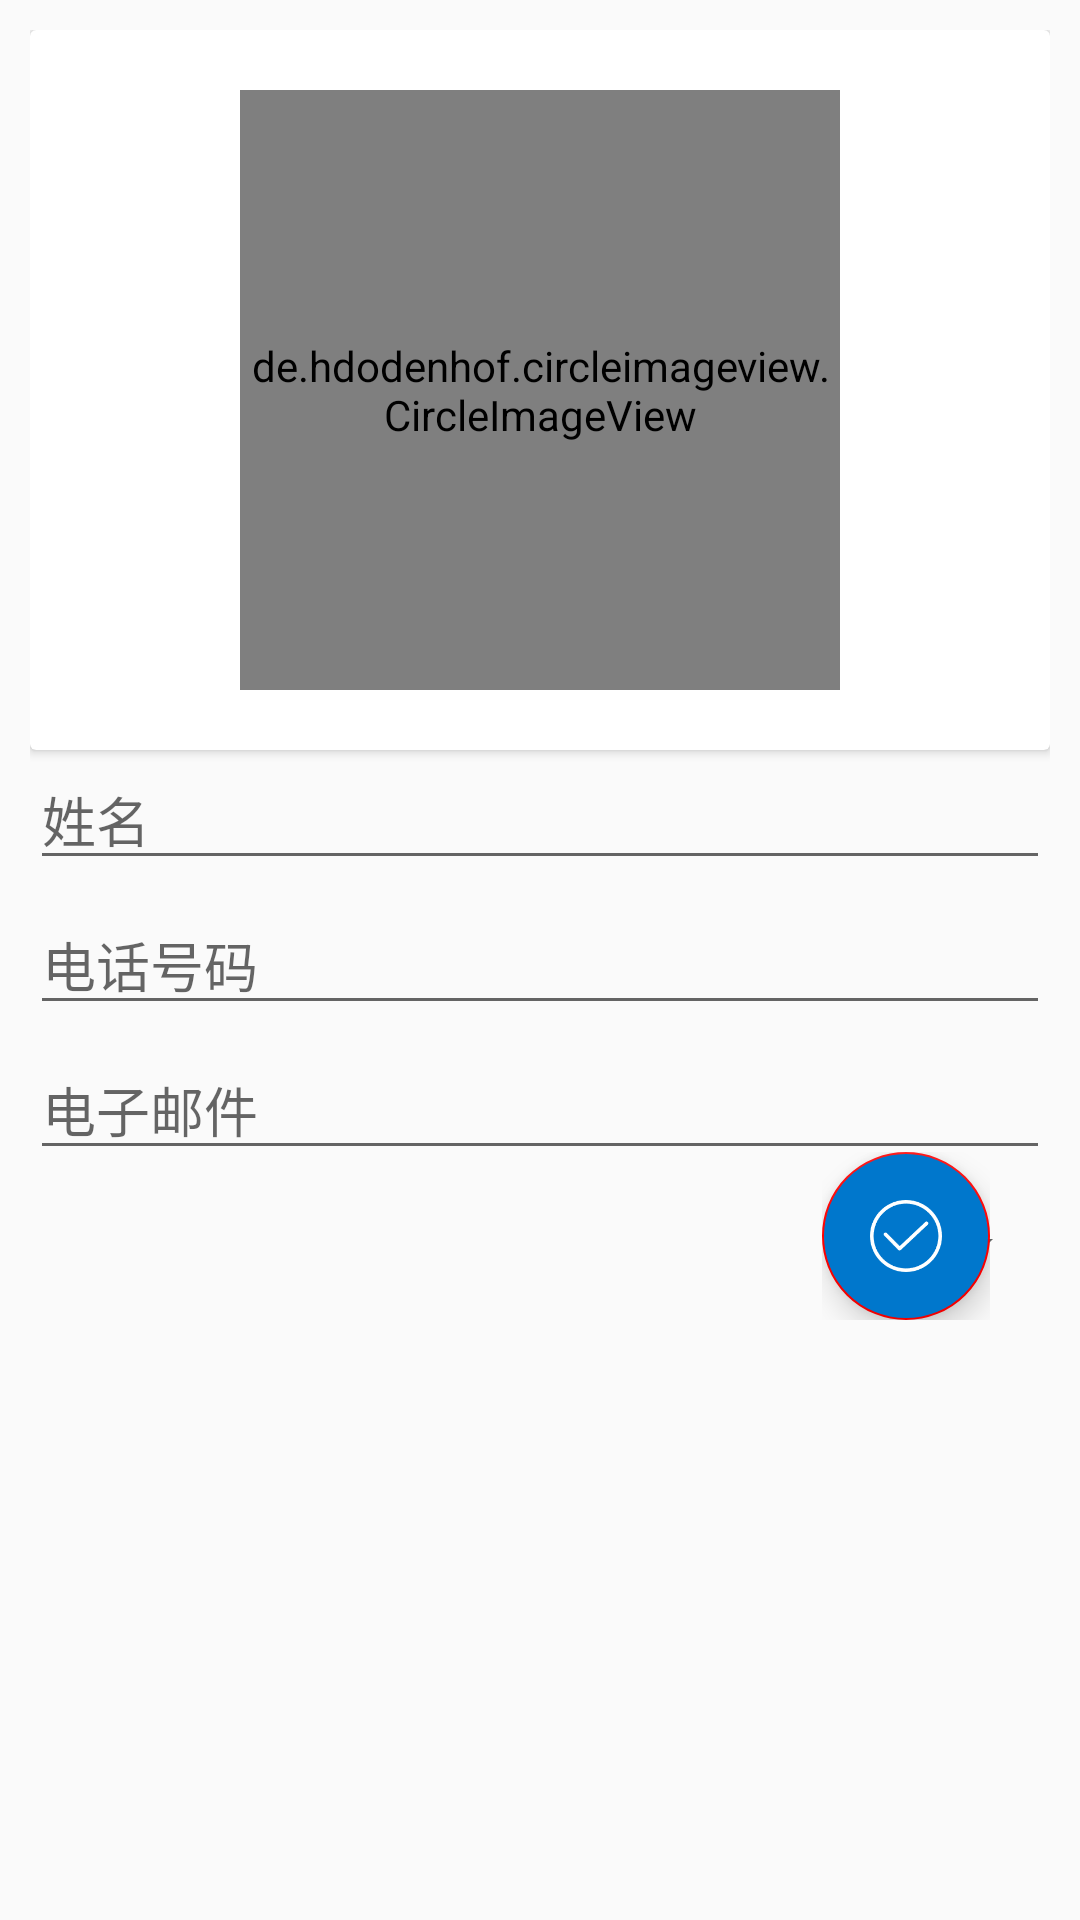

Named icons in this screenshot (1080 x 1920) and their centers, (x=x, y=y):
save: (x=906, y=1236)
